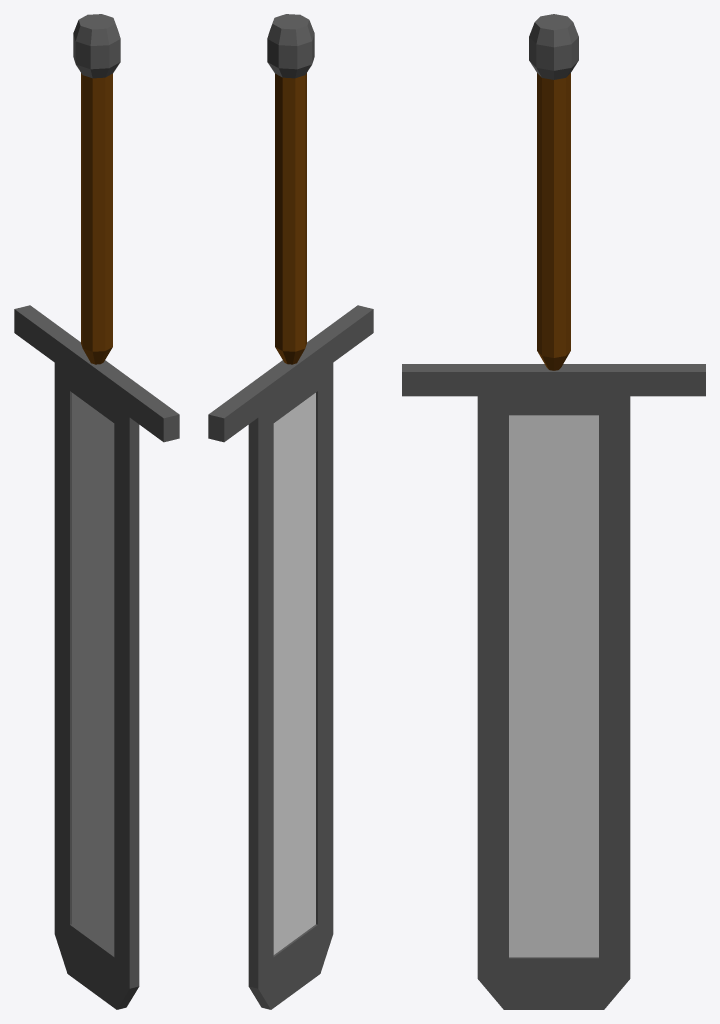
File: Sword.fbx
The picture shows the model from 3 angles, left to right: view 1: azimuth 30°, elevation 25°; view 2: azimuth 150°, elevation 25°; view 3: azimuth 270°, elevation 25°; orthographic projection.
Visible parts, largest first — view 1: Cube.001; view 2: Cube.001; view 3: Cube.001.
Part boxes in pixels (x1,y1,x2,y2): Cube.001: (14, 14, 179, 1009); Cube.001: (208, 14, 373, 1009); Cube.001: (402, 14, 705, 1009).
Bounding box in the file's own units: 32.94 × 716 × 200.
